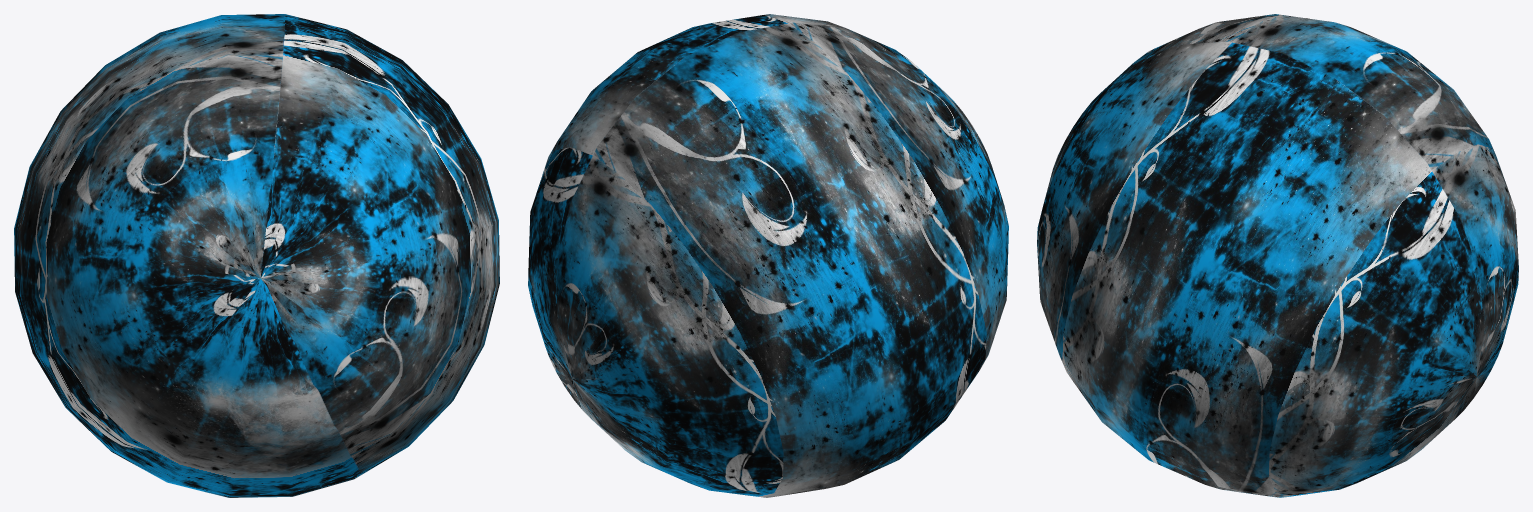
The model's file is bila.fbx.
The picture shows the model from 3 angles, left to right: view 1: azimuth 30°, elevation 25°; view 2: azimuth 150°, elevation 25°; view 3: azimuth 270°, elevation 25°; orthographic projection.
Visible parts, largest first — view 1: Sphere; view 2: Sphere; view 3: Sphere.
Part boxes in pixels (box(x1,y1,x2,y2)): Sphere: box(14, 14, 499, 497); Sphere: box(528, 14, 1008, 497); Sphere: box(1037, 14, 1518, 497).
Bounding box in the file's own units: 200 × 198 × 199.
1 material, 1 textured.
